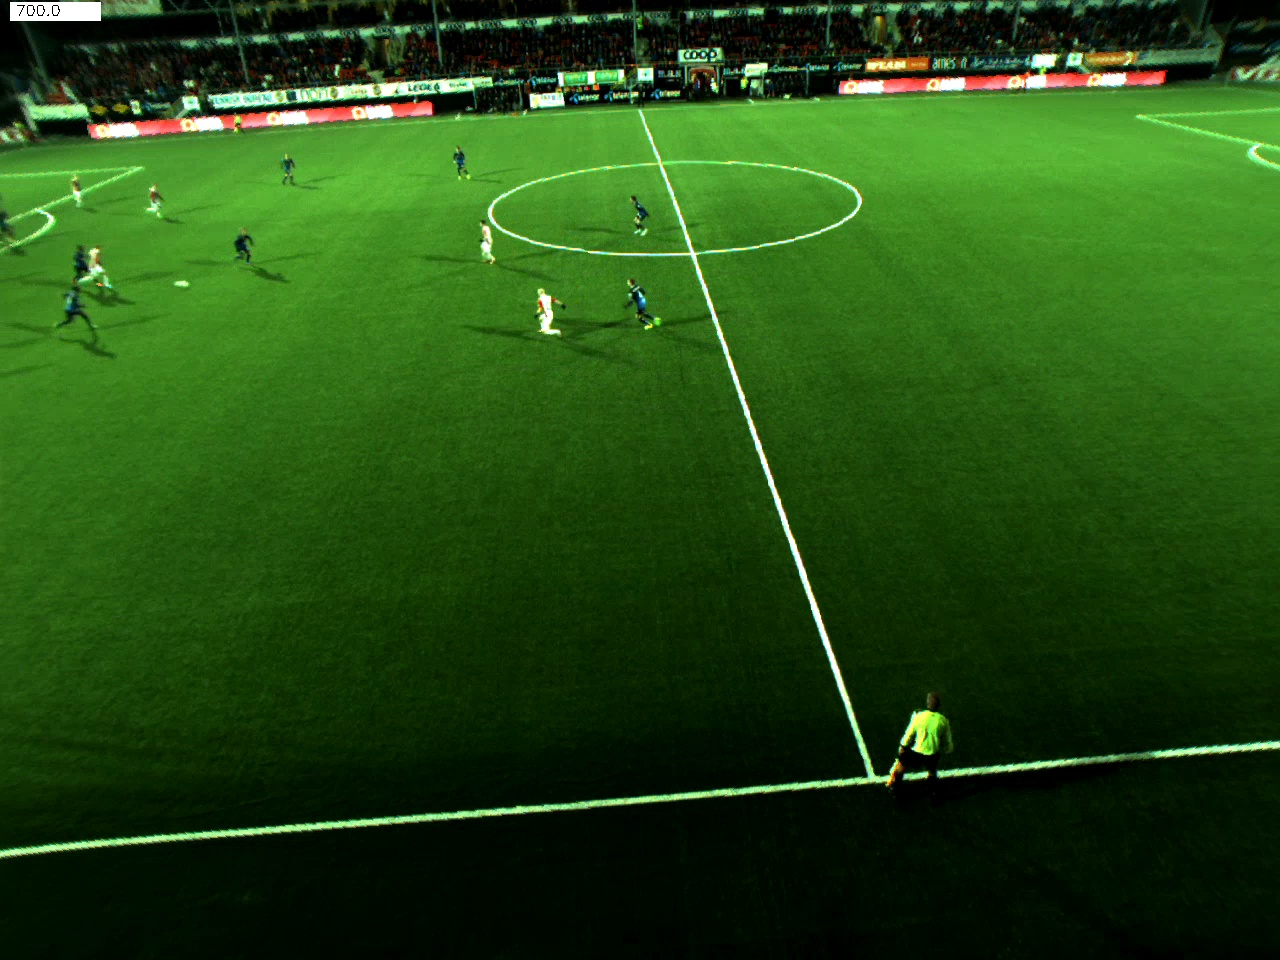blue: (52, 281, 108, 342), (620, 266, 666, 332), (627, 189, 656, 238), (228, 225, 262, 264), (1, 210, 26, 260), (447, 138, 474, 182), (276, 149, 303, 188)
red: (533, 287, 564, 341), (83, 248, 120, 291), (471, 217, 499, 264), (141, 179, 169, 220), (66, 173, 95, 210)
yellow: (885, 691, 955, 800)
